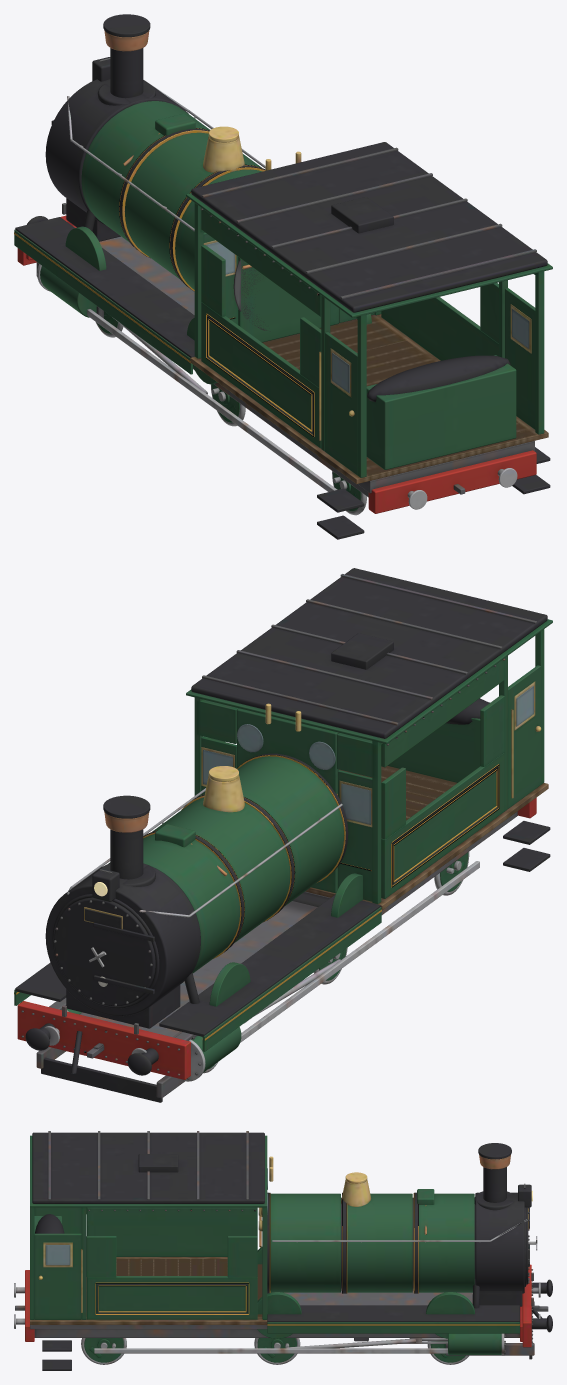
File: locomotive.glb
3 views of the same model, one above another, from view 1: azimuth 30°, elevation 25°; view 2: azimuth 150°, elevation 25°; view 3: azimuth 270°, elevation 25° (orthographic). The views are drawn at different scales.
Visible parts, largest first — view 1: Locomotive, Panel_metal_5, Panel_metal_3, Panel_metal_1, Panel_metal_2, Panel_metal_4, Door_metal_0, Door_metal_1, Panel_metal_0, Door_metal_2, Wheel_2; view 2: Locomotive, Panel_metal_5, Panel_metal_3, Panel_metal_0, Panel_metal_1, Panel_metal_2, Door_metal_0, Door_metal_2, Door_metal_3; view 3: Locomotive, Panel_metal_5, Panel_metal_4, Panel_metal_0, Panel_metal_1, Panel_metal_2, Panel_metal_3, Door_metal_1, Wheel_5, Wheel_3, Door_metal_0, Wheel_1.
Boxes of the visible parts, x1,y1,x2,y2 form: Locomotive: (14, 14, 550, 539); Panel_metal_5: (186, 142, 552, 317); Panel_metal_3: (201, 208, 321, 448); Panel_metal_1: (124, 132, 265, 291); Panel_metal_2: (81, 101, 209, 258); Panel_metal_4: (381, 283, 498, 360); Door_metal_0: (325, 332, 357, 475); Door_metal_1: (505, 288, 535, 429); Panel_metal_0: (175, 169, 262, 289); Door_metal_2: (203, 232, 238, 324); Wheel_2: (210, 384, 245, 426); Locomotive: (14, 629, 550, 1102); Panel_metal_5: (186, 568, 552, 743); Panel_metal_3: (381, 658, 505, 898); Panel_metal_0: (203, 753, 348, 906); Panel_metal_1: (153, 794, 295, 942); Panel_metal_2: (108, 830, 244, 973); Door_metal_0: (508, 665, 541, 808); Door_metal_2: (338, 770, 372, 901); Door_metal_3: (201, 737, 236, 795); Locomotive: (14, 1143, 552, 1370); Panel_metal_5: (30, 1131, 267, 1207); Panel_metal_4: (86, 1207, 257, 1319); Panel_metal_0: (267, 1192, 340, 1293); Panel_metal_1: (342, 1192, 412, 1293); Panel_metal_2: (413, 1192, 474, 1293); Panel_metal_3: (86, 1208, 257, 1256); Door_metal_1: (34, 1233, 81, 1319); Wheel_5: (81, 1338, 126, 1364); Wheel_3: (254, 1338, 300, 1364); Door_metal_0: (34, 1207, 81, 1233); Wheel_1: (427, 1341, 468, 1364).
Size of the model in its own units: 3.55 by 4.39 by 10.89.
Materials: 14 (14 with a texture image).
